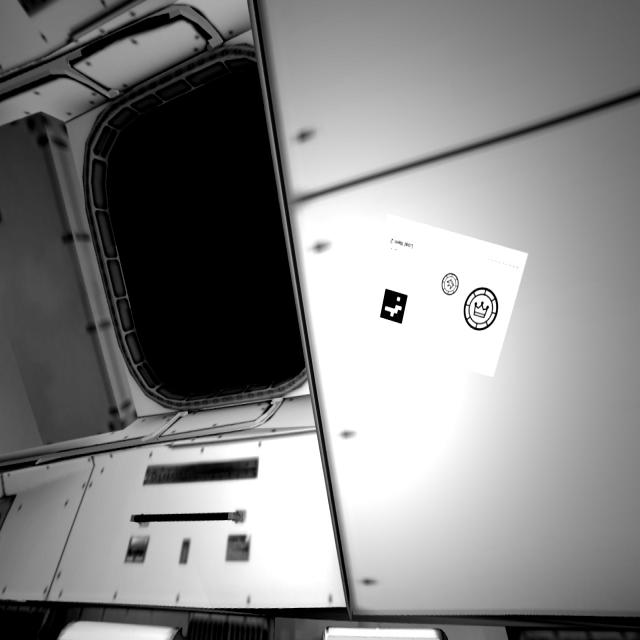coin: (462, 285, 500, 334), (440, 273, 464, 298)
